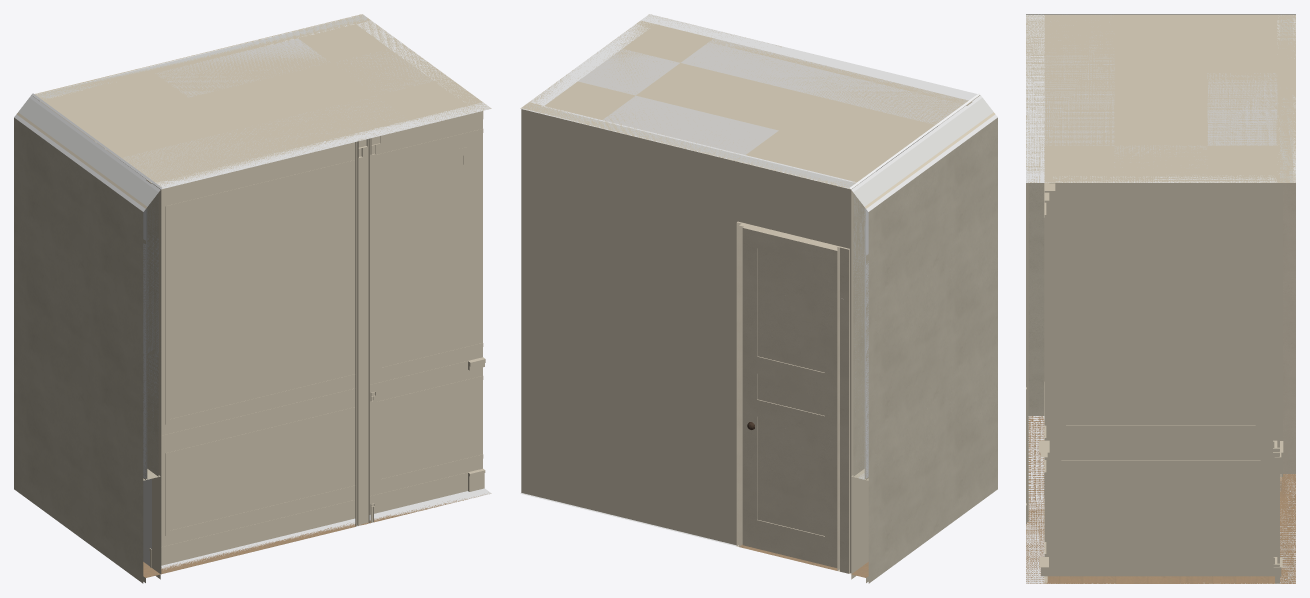
File: upstairs-closet-west-4a27979f66e5.glb
3 renders of one model, left to right at view 1: azimuth 30°, elevation 25°; view 2: azimuth 150°, elevation 25°; view 3: azimuth 270°, elevation 25°, orthographic. The views are drawn at different scales.
Parts seen in each view (by area): view 1: upstairs-closet-west-6e269356ae8bfd70, upstairs-closet-west-9d91b47435c6fb33, upstairs-closet-west-312b4ac1be39223d, upstairs-closet-west-33ee0b466567e5f0, upstairs-closet-west-ed5fdcd3ee9c0dd5, upstairs-closet-west-414385708a06acff, upstairs-closet-west-39b94aca90fa4b53, upstairs-closet-west-3a4d9d62ecd7be1c, upstairs-closet-west-06754748489735a0, upstairs-closet-west-23111371382874c8, upstairs-closet-west-1e3385c37a14aaf6, upstairs-closet-west-6a4a24524a86ae48 (+9 smaller); view 2: upstairs-closet-west-eb02897c2e79e2b1, upstairs-closet-west-312b4ac1be39223d, upstairs-closet-west-7406100458e293ce, upstairs-closet-west-9d91b47435c6fb33, upstairs-closet-west-33ee0b466567e5f0, upstairs-closet-west-242740a07d2af182, upstairs-closet-west-6a4a24524a86ae48, upstairs-closet-west-3a4d9d62ecd7be1c, upstairs-closet-west-39b94aca90fa4b53, upstairs-closet-west-442e5a19ed849720, upstairs-closet-west-4fe731a8ba1c3bde, upstairs-closet-west-6e269356ae8bfd70 (+4 smaller); view 3: upstairs-closet-west-af27112094daa34f, upstairs-closet-west-9d91b47435c6fb33, upstairs-closet-west-6e269356ae8bfd70, upstairs-closet-west-2575515a05775d9e, upstairs-closet-west-4f0e44ea3a4792e4, upstairs-closet-west-01cb28dde92e932c, upstairs-closet-west-6a4a24524a86ae48, upstairs-closet-west-7f77ce4796f35946, upstairs-closet-west-442e5a19ed849720, upstairs-closet-west-242740a07d2af182, upstairs-closet-west-fec105c9a6387936, upstairs-closet-west-eb02897c2e79e2b1 (+4 smaller).
Part boxes in pixels (left/top/right/bottom): upstairs-closet-west-6e269356ae8bfd70: left=152, top=102, right=491, bottom=573; upstairs-closet-west-9d91b47435c6fb33: left=31, top=14, right=491, bottom=188; upstairs-closet-west-312b4ac1be39223d: left=14, top=114, right=145, bottom=480; upstairs-closet-west-33ee0b466567e5f0: left=14, top=386, right=160, bottom=583; upstairs-closet-west-ed5fdcd3ee9c0dd5: left=355, top=138, right=369, bottom=526; upstairs-closet-west-414385708a06acff: left=149, top=469, right=478, bottom=567; upstairs-closet-west-39b94aca90fa4b53: left=18, top=98, right=158, bottom=479; upstairs-closet-west-3a4d9d62ecd7be1c: left=29, top=95, right=160, bottom=476; upstairs-closet-west-06754748489735a0: left=165, top=160, right=355, bottom=424; upstairs-closet-west-23111371382874c8: left=146, top=98, right=483, bottom=197; upstairs-closet-west-1e3385c37a14aaf6: left=161, top=358, right=479, bottom=443; upstairs-closet-west-6a4a24524a86ae48: left=155, top=38, right=329, bottom=97; upstairs-closet-west-eb02897c2e79e2b1: left=520, top=103, right=859, bottom=574; upstairs-closet-west-312b4ac1be39223d: left=866, top=114, right=997, bottom=480; upstairs-closet-west-7406100458e293ce: left=742, top=226, right=837, bottom=567; upstairs-closet-west-9d91b47435c6fb33: left=520, top=14, right=980, bottom=189; upstairs-closet-west-33ee0b466567e5f0: left=851, top=386, right=997, bottom=583; upstairs-closet-west-242740a07d2af182: left=681, top=38, right=967, bottom=130; upstairs-closet-west-6a4a24524a86ae48: left=602, top=95, right=778, bottom=154; upstairs-closet-west-3a4d9d62ecd7be1c: left=851, top=95, right=982, bottom=476; upstairs-closet-west-39b94aca90fa4b53: left=853, top=98, right=993, bottom=479; upstairs-closet-west-442e5a19ed849720: left=736, top=221, right=840, bottom=571; upstairs-closet-west-4fe731a8ba1c3bde: left=840, top=246, right=849, bottom=573; upstairs-closet-west-6e269356ae8bfd70: left=641, top=14, right=979, bottom=100; upstairs-closet-west-af27112094daa34f: left=1044, top=175, right=1277, bottom=583; upstairs-closet-west-9d91b47435c6fb33: left=1026, top=14, right=1295, bottom=182; upstairs-closet-west-6e269356ae8bfd70: left=1026, top=14, right=1044, bottom=583; upstairs-closet-west-2575515a05775d9e: left=1026, top=416, right=1295, bottom=583; upstairs-closet-west-4f0e44ea3a4792e4: left=1044, top=555, right=1274, bottom=576; upstairs-closet-west-01cb28dde92e932c: left=1061, top=202, right=1260, bottom=430; upstairs-closet-west-6a4a24524a86ae48: left=1207, top=73, right=1277, bottom=145; upstairs-closet-west-7f77ce4796f35946: left=1044, top=215, right=1277, bottom=235; upstairs-closet-west-442e5a19ed849720: left=1283, top=183, right=1295, bottom=473; upstairs-closet-west-242740a07d2af182: left=1044, top=21, right=1114, bottom=145; upstairs-closet-west-fec105c9a6387936: left=1061, top=460, right=1260, bottom=546; upstairs-closet-west-eb02897c2e79e2b1: left=1277, top=15, right=1295, bottom=583.
Size of the model in its own units: 2.74 by 2.95 by 1.77.
21 materials, 3 textured.
